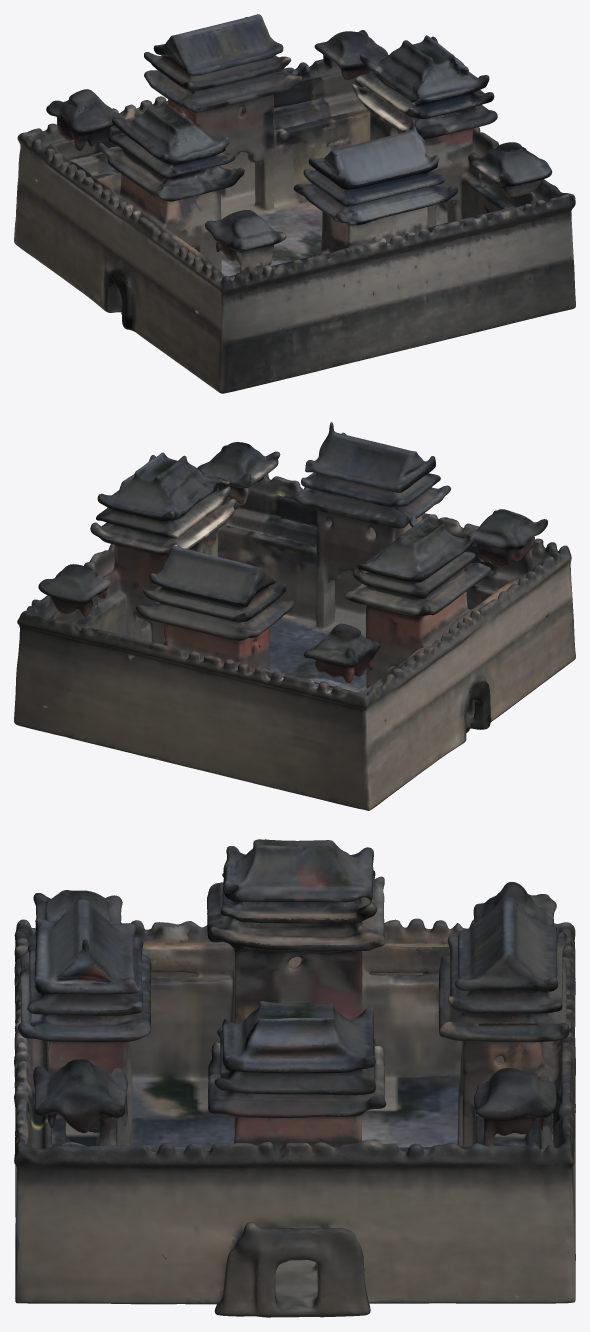
The model's file is Chinese Castle.fbx.
3 views of the same model, one above another, from view 1: azimuth 30°, elevation 25°; view 2: azimuth 150°, elevation 25°; view 3: azimuth 270°, elevation 25° (orthographic). The views are drawn at different scales.
Visible parts, largest first — view 1: Mesh1_Mesh1.034; view 2: Mesh1_Mesh1.034; view 3: Mesh1_Mesh1.034.
Boxes of the visible parts, x1,y1,x2,y2 form: Mesh1_Mesh1.034: (14,14,575,393); Mesh1_Mesh1.034: (14,422,575,810); Mesh1_Mesh1.034: (14,839,575,1317).
Bounding box in the file's own units: 200 × 102 × 188.
Materials: 1 (1 with a texture image).
